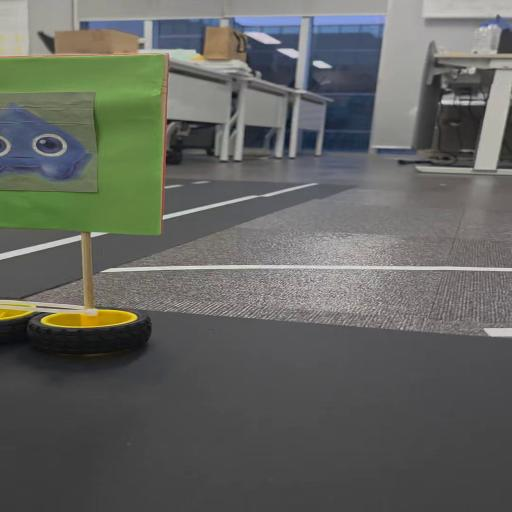Sign_B: (3, 52, 160, 362)
